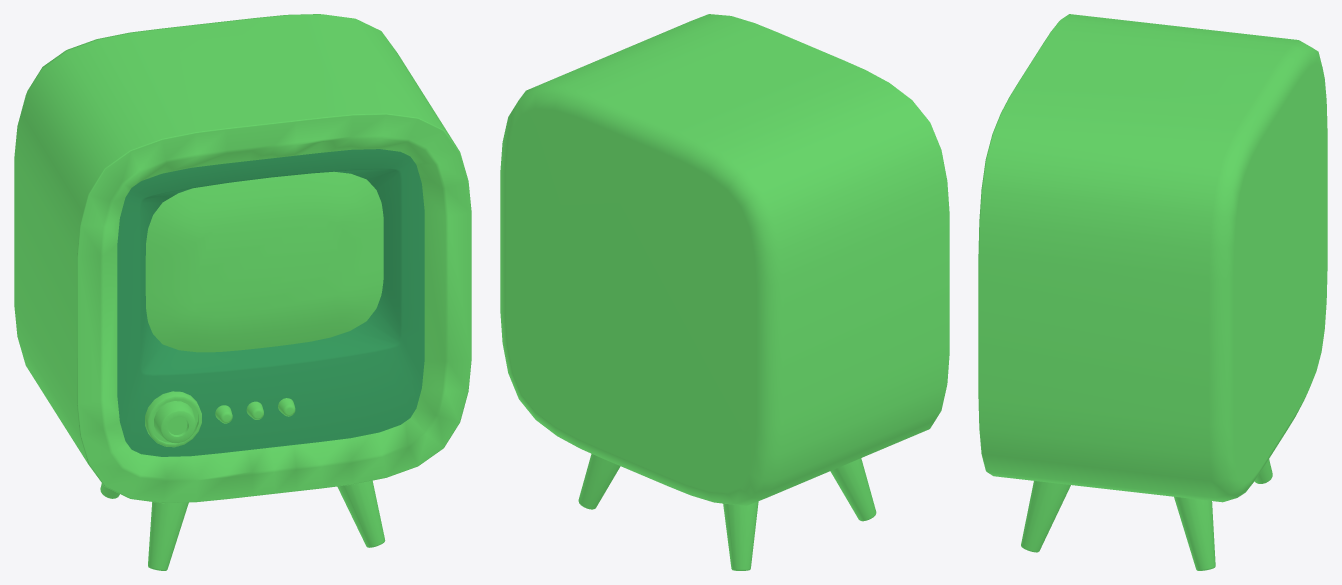
File: showreel_02.glb
The picture shows the model from 3 angles, left to right: view 1: azimuth 30°, elevation 25°; view 2: azimuth 150°, elevation 25°; view 3: azimuth 270°, elevation 25°; orthographic projection. The views are drawn at different scales.
Visible parts, largest first — view 1: tv.005, bezel, tv.003; view 2: tv.005; view 3: tv.005.
Part boxes in pixels (x1,y1,x2,y2): tv.005: [14, 14, 471, 570]; bezel: [117, 149, 424, 456]; tv.003: [145, 171, 383, 352]; tv.005: [500, 14, 949, 570]; tv.005: [978, 14, 1327, 570].
Size of the model in its own units: 1.1 by 1.19 by 0.8532.
